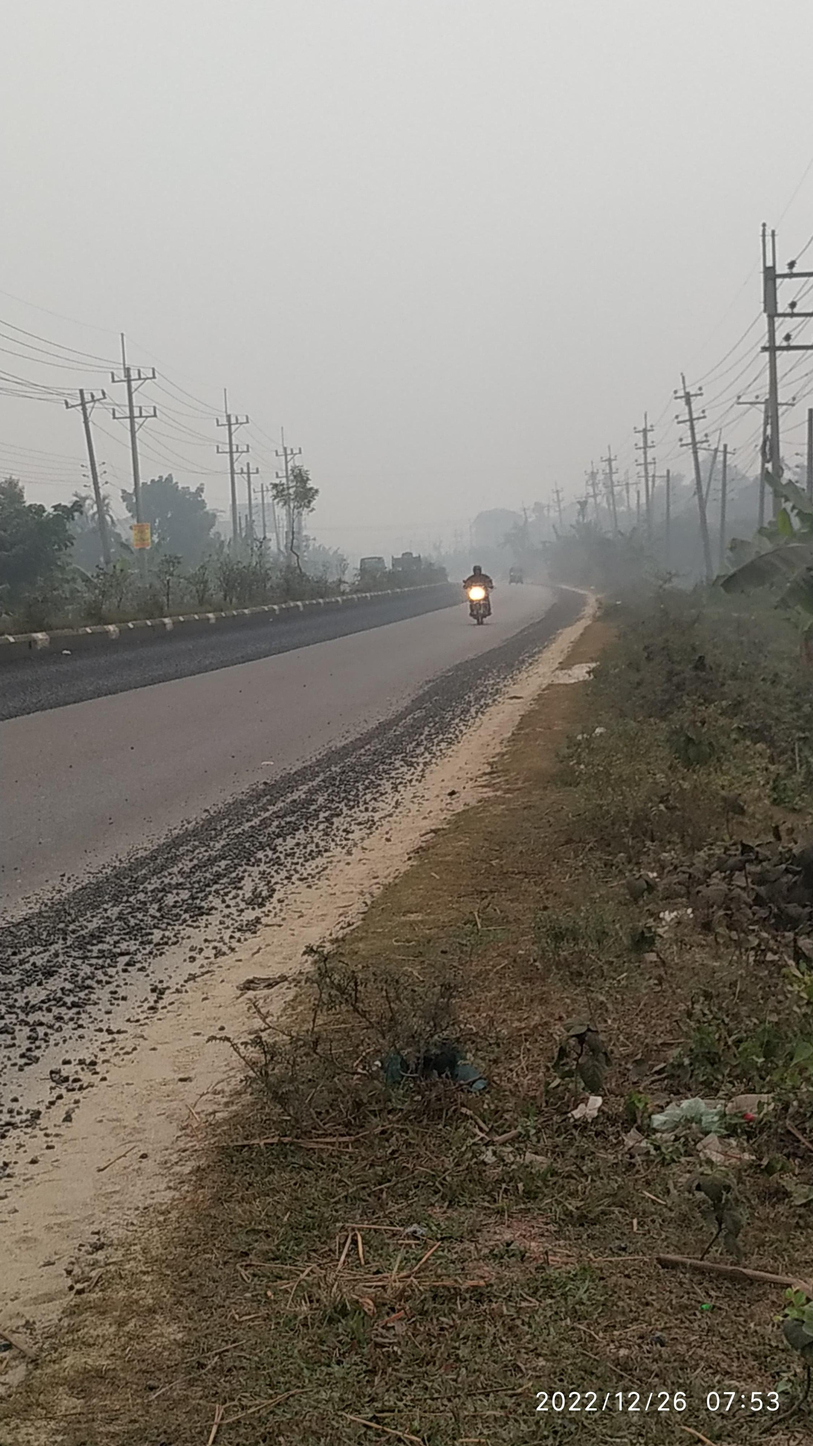Bike: (441, 554, 510, 649)
